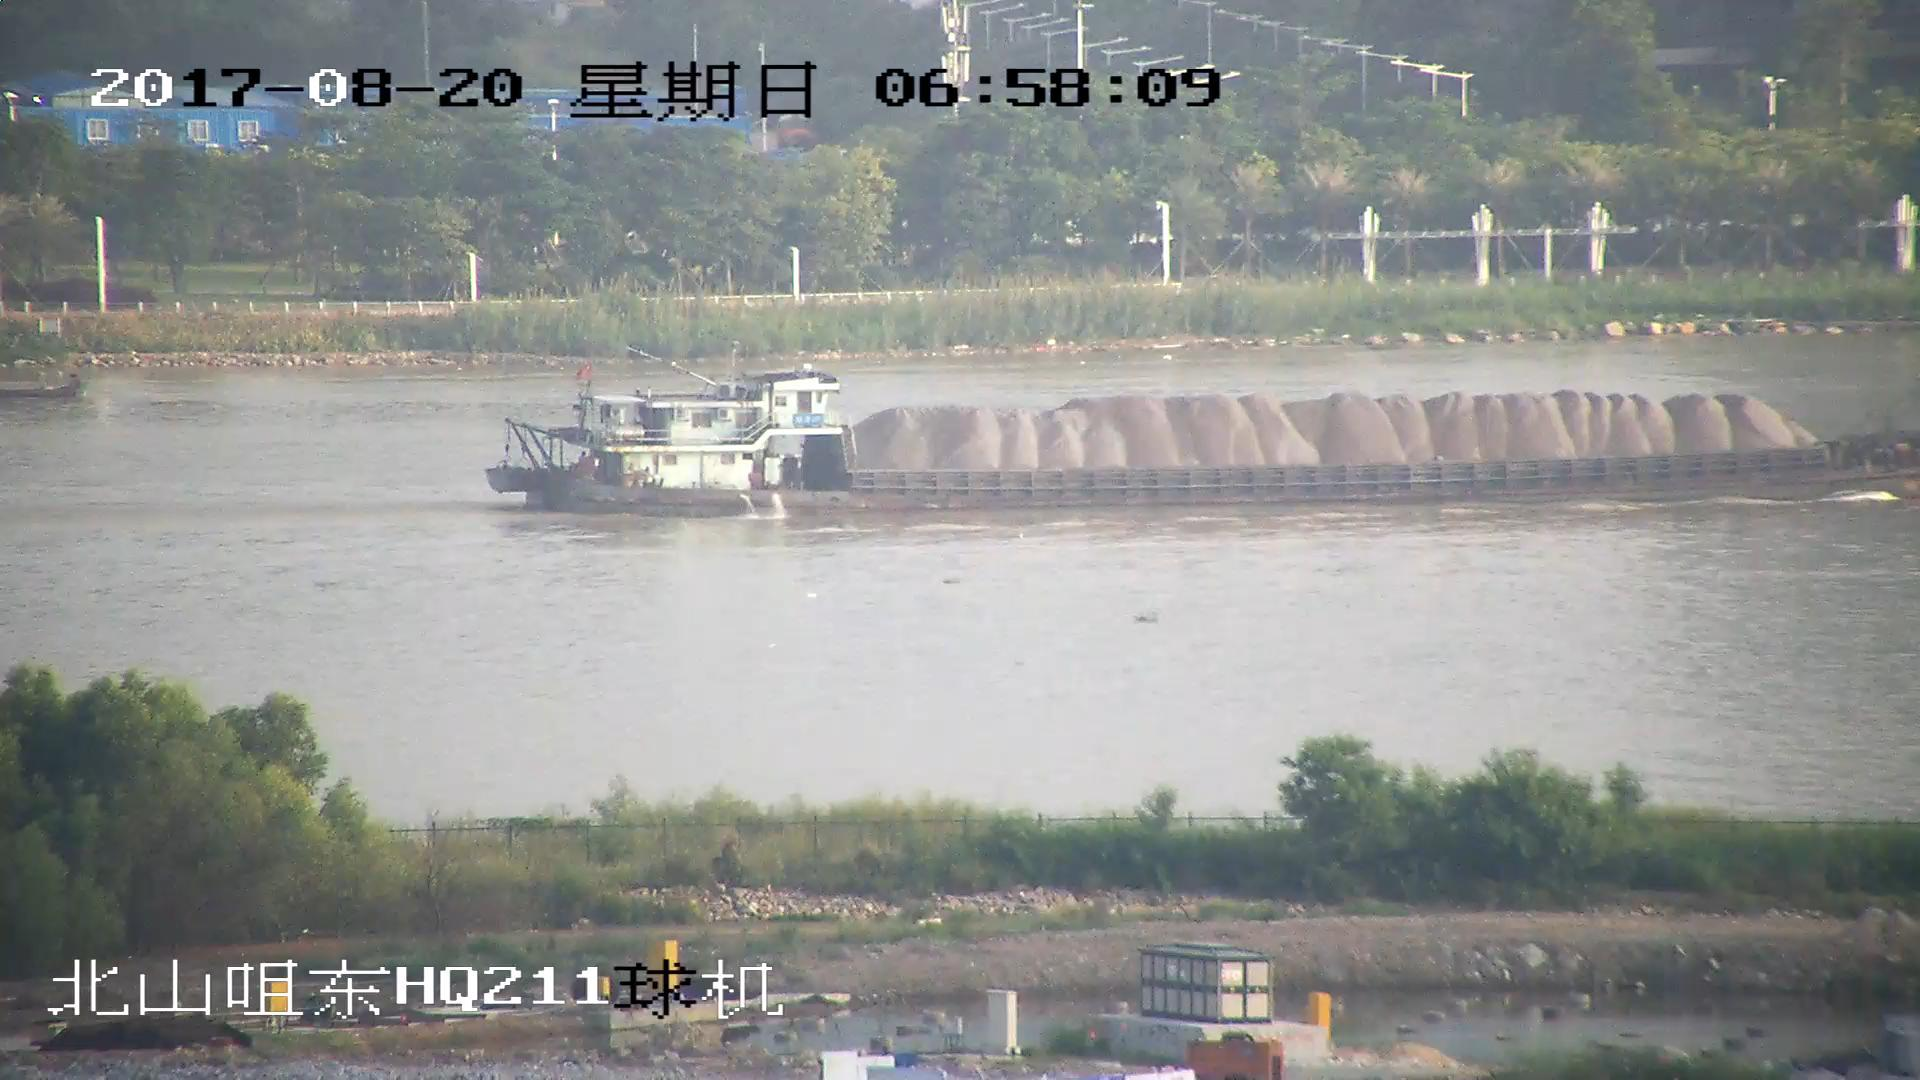Ship: (483, 342, 1920, 521), (3, 369, 88, 401)
